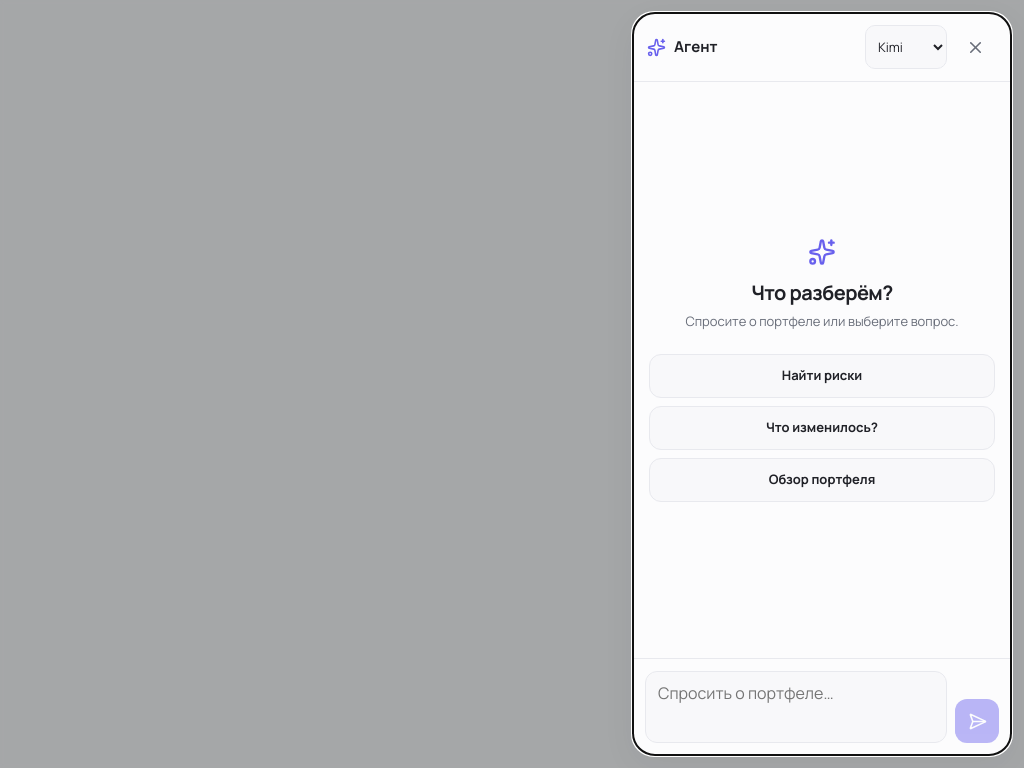
keeps the agent selected at send time on the response
Select "Codex" in the dropdown named "Модель": coordinates (906, 47) [865,25,947,69]
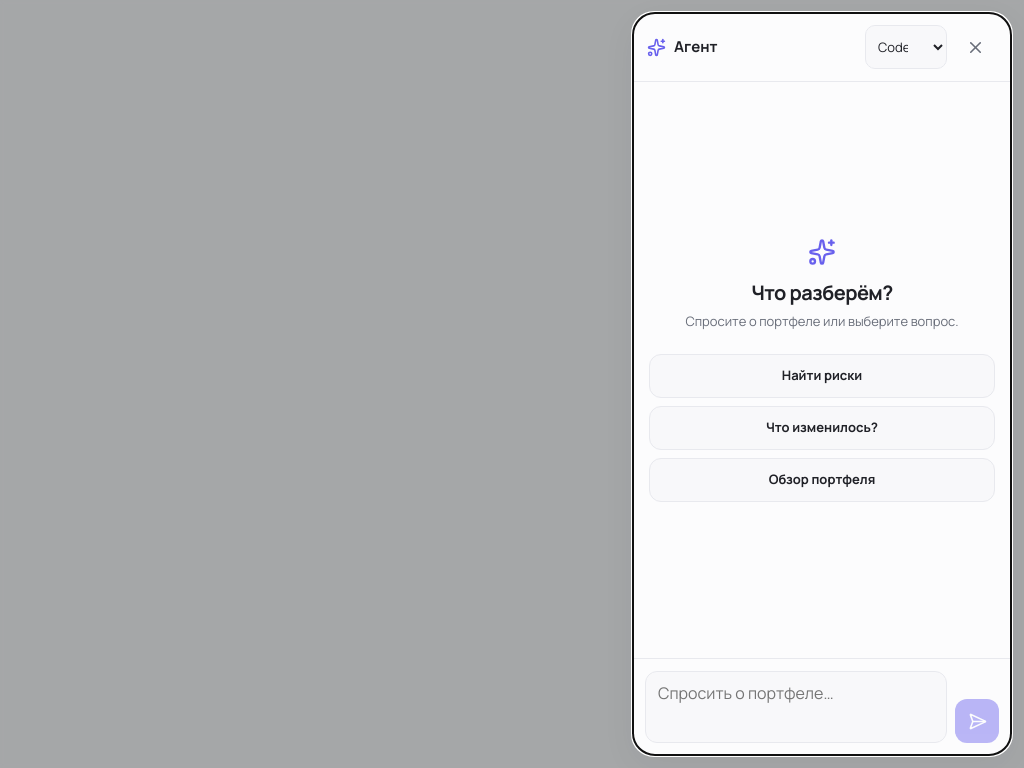
In the text box named "Сообщение агенту": coordinates (796, 707) [645,671,947,743], type "Дай обзор"
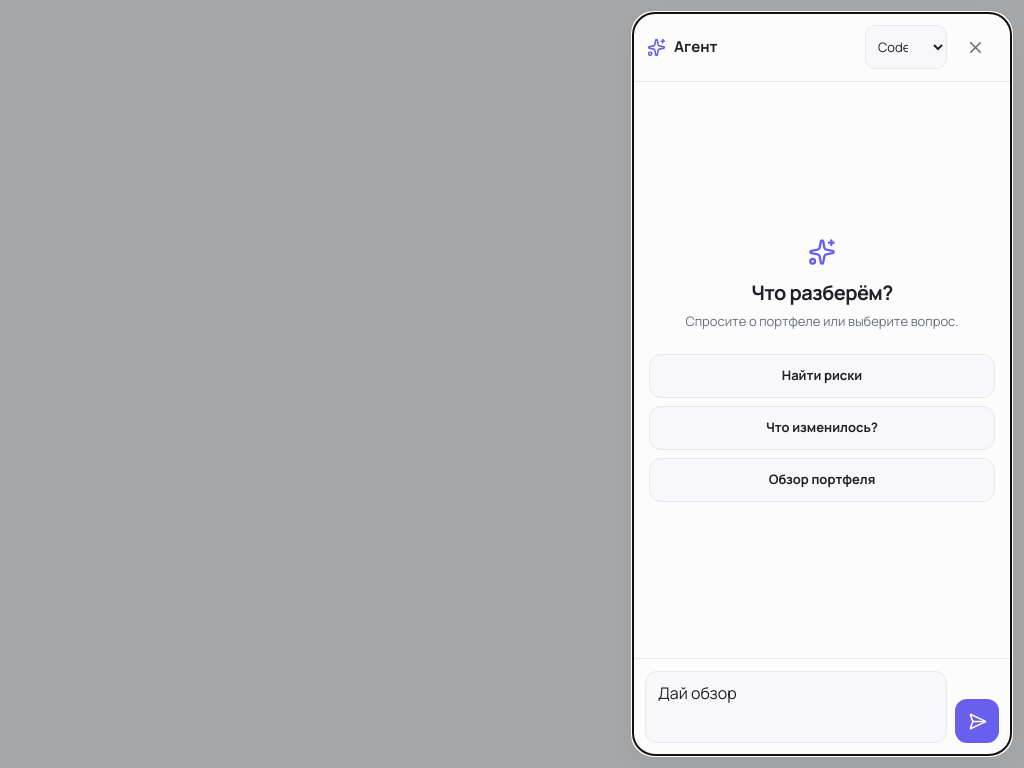
Press Enter in the text box named "Сообщение агенту", box [645,671,947,743]
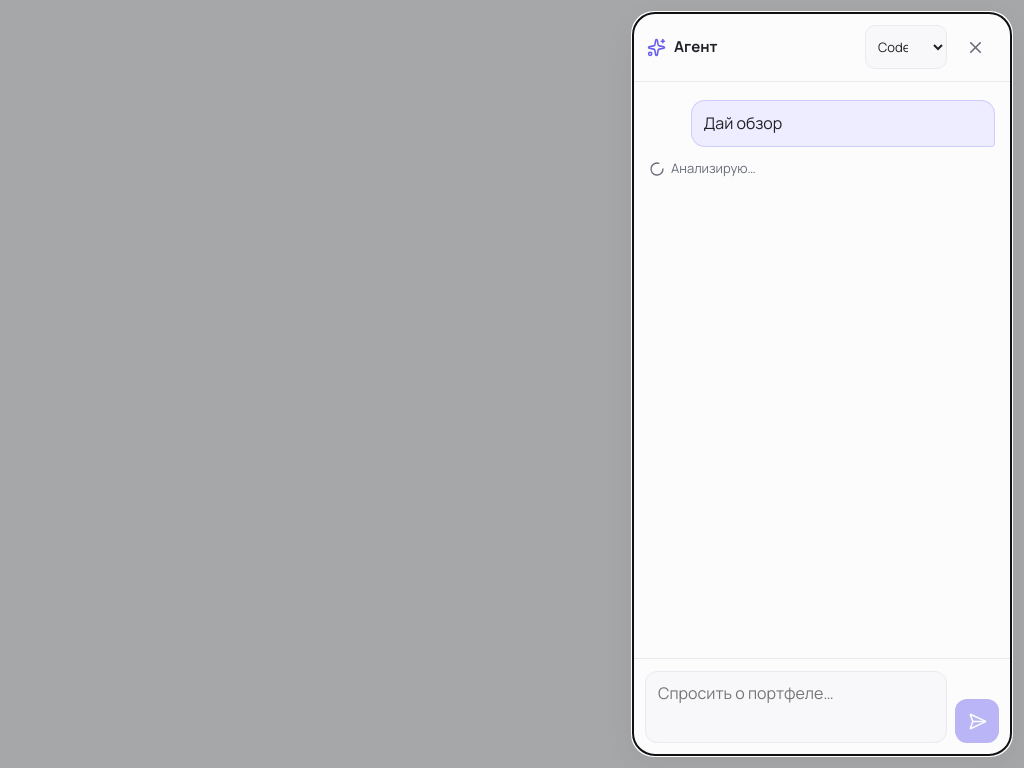
Select "Claude" in the dropdown named "Модель": coordinates (906, 47) [865,25,947,69]
Wait 450 ms
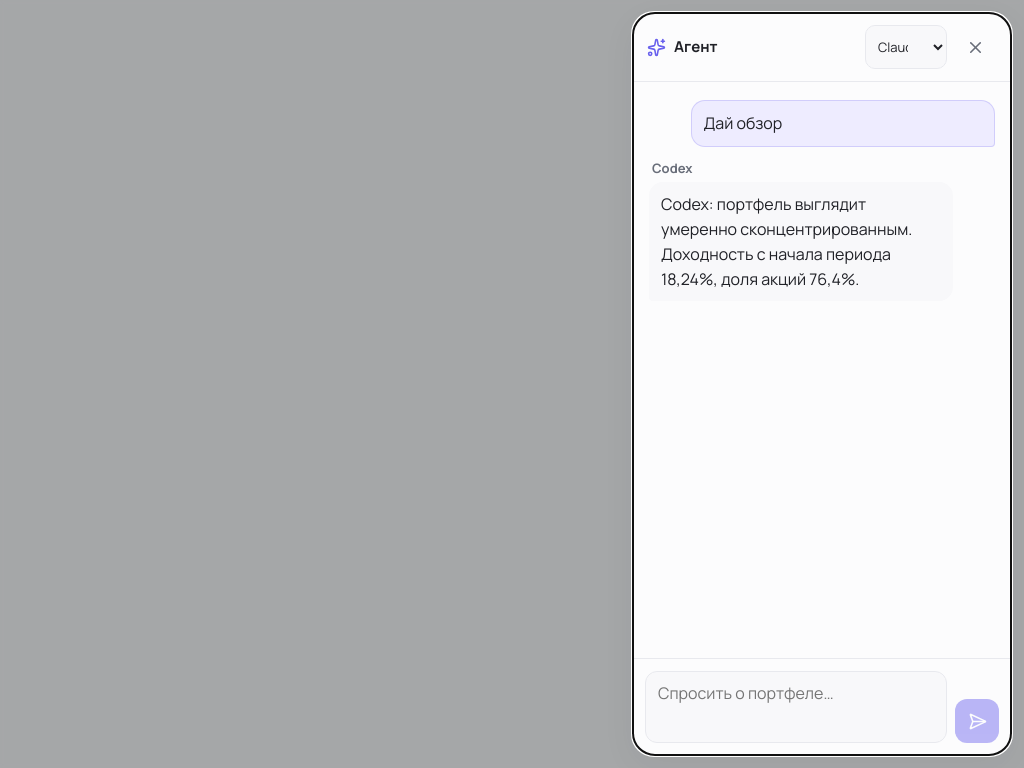
Now the text "Codex: портфель выглядит" is shown, box [661,193,916,290]
Now the text "Codex" is shown, box [652,159,692,177]
